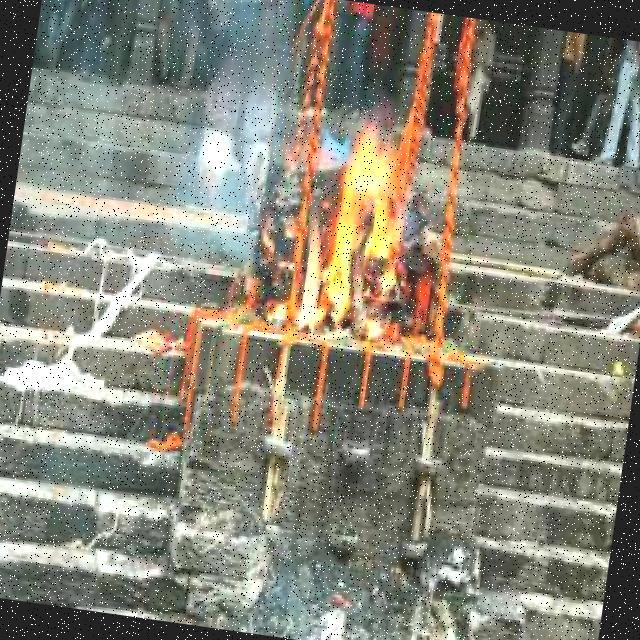Fire: (290, 113, 421, 344)
